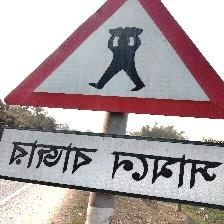Market-in-front: (2, 1, 222, 216)
